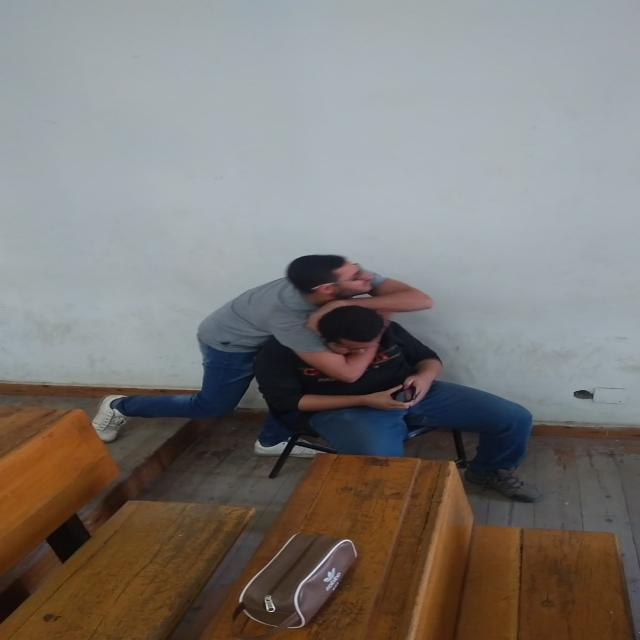violence: (88, 250, 540, 511)
